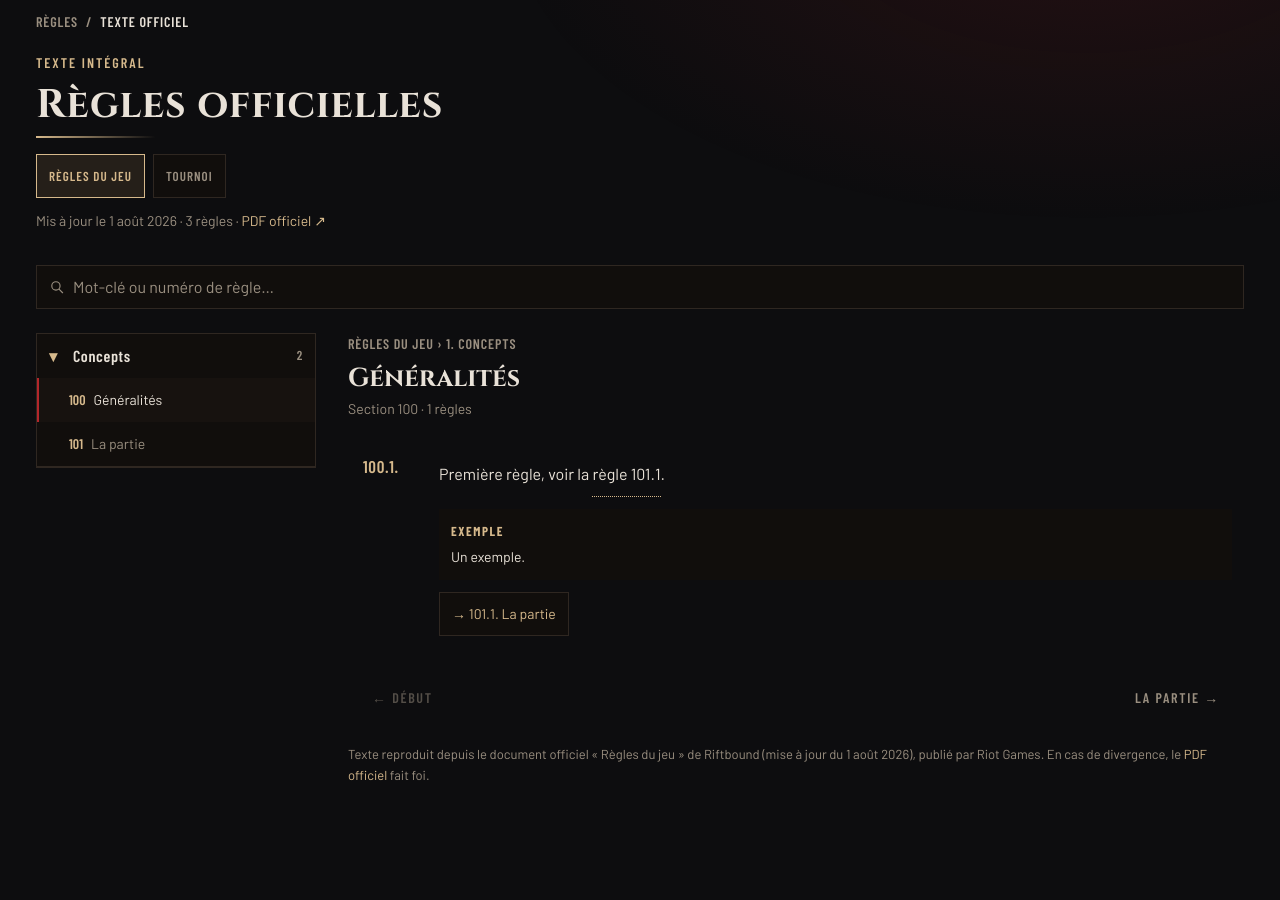
Test: RulesView : lecture et renvois › clic sur un renvoi dans le texte navigue
This screenshot has width=1280, height=900.
Click the button with class "rift-ref" showing "règle 101.1" at (626, 475), box [592,453,660,497]
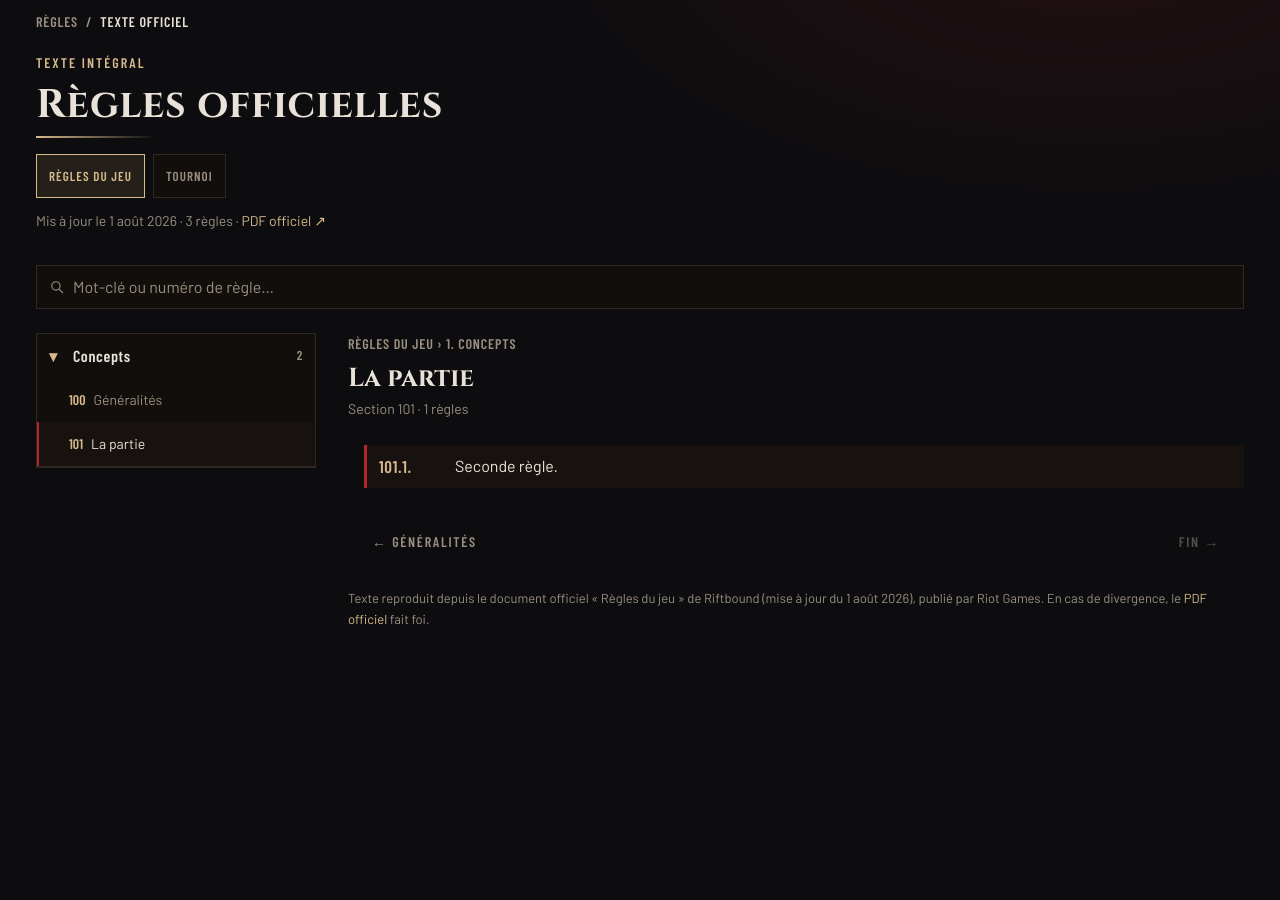
expect the heading with class "officiel-title" reads "La partie": met, box [348,361,474,396]
expect the element with class "officiel-rule--target" is shown: met, box [364,445,1244,488]
